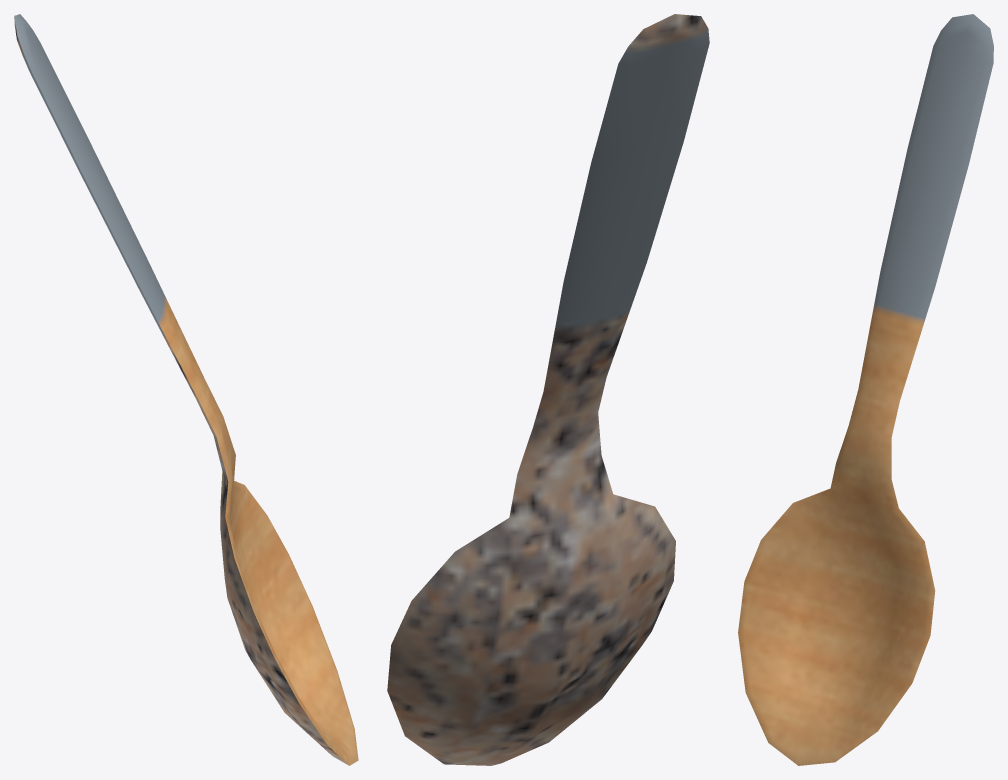
File: SoupSpoon.fbx
The picture shows the model from 3 angles, left to right: view 1: azimuth 30°, elevation 25°; view 2: azimuth 150°, elevation 25°; view 3: azimuth 270°, elevation 25°; orthographic projection. The views are drawn at different scales.
Parts seen in each view (by area): view 1: SM_Spoon_Utensils_0.001; view 2: SM_Spoon_Utensils_0.001; view 3: SM_Spoon_Utensils_0.001.
Boxes of the visible parts, x1=… form: SM_Spoon_Utensils_0.001: x1=14, y1=14, x2=358, y2=765; SM_Spoon_Utensils_0.001: x1=387, y1=14, x2=709, y2=765; SM_Spoon_Utensils_0.001: x1=738, y1=14, x2=993, y2=765.
Bounding box in the file's own units: 562 × 1414 × 507.
